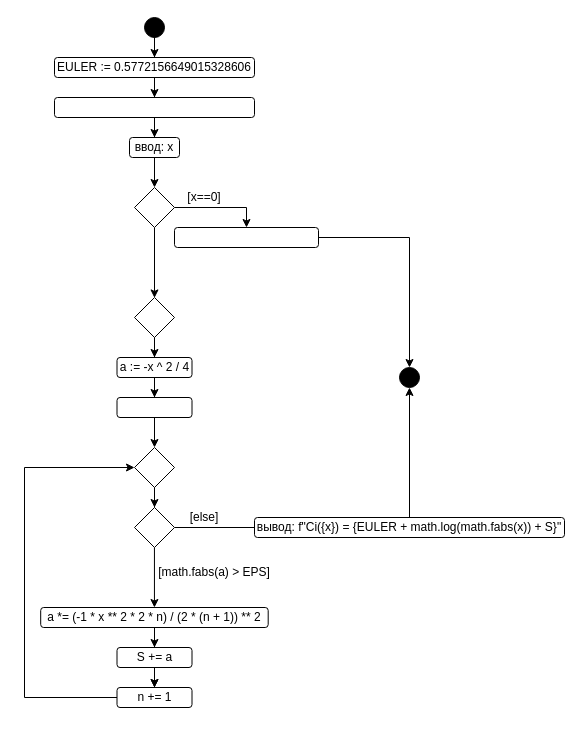
The diagram is 582 pixels wide and 734 high, and some of its shapes have lost their labels. Each missing label, with the centre of its shape:
"EPS := 10^-10" belongs at point (154, 107).
"n := a" belongs at point (154, 407).
"вывод: 'illegal value of x'" belongs at point (246, 237).
